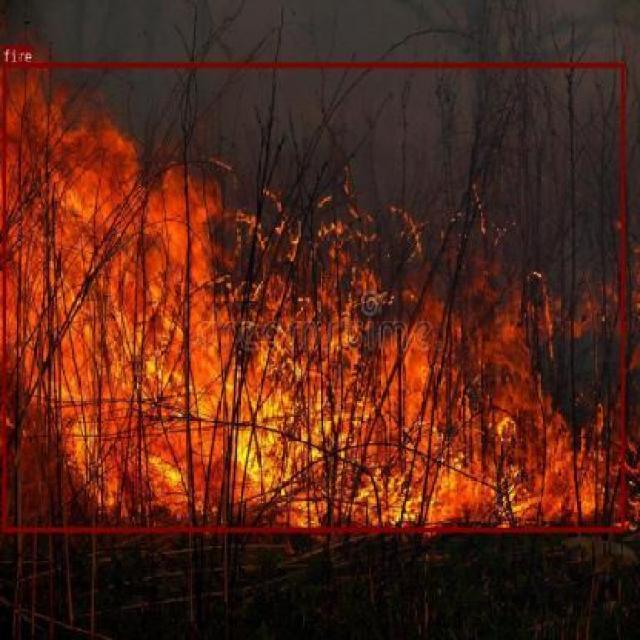Fire: (313, 296, 622, 469)
